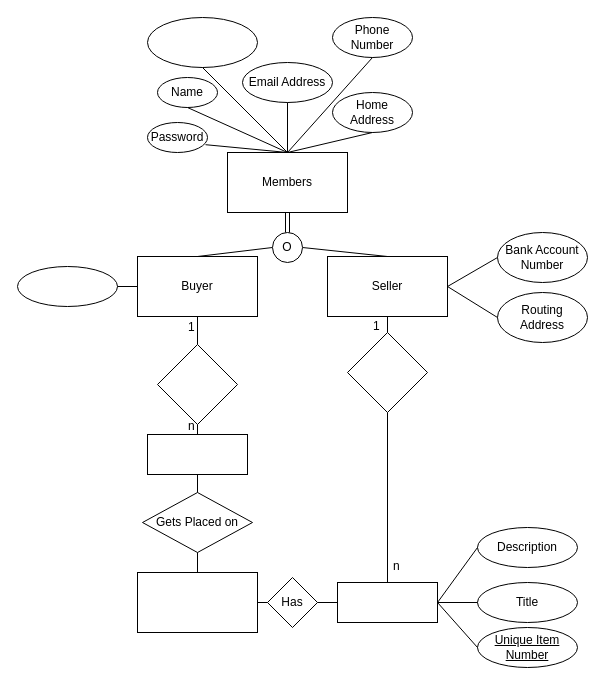
This 605x685 diagram has some shape labels left out. Here are the shapes that lost their labels. From the top down, the centre of each, then its label:
At point (202, 42): "Unique Member Number".
At point (67, 286): "Shipping Address".
At point (197, 384): "Places".
At point (387, 372): "Sells".
At point (197, 454): "Bid".
At point (197, 602): "Lot".
At point (387, 602): "Item".
